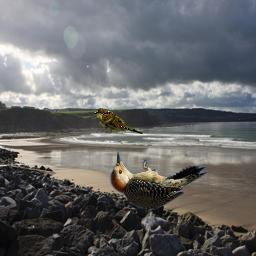Cuckoo: (93, 108, 144, 134)
Woodpecker: (102, 148, 212, 210)
